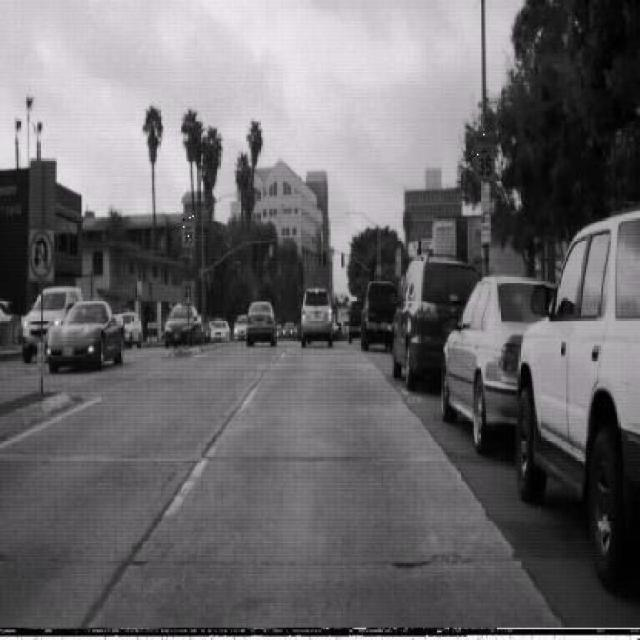speedLimit35: (474, 129, 496, 181), (180, 215, 197, 252)
